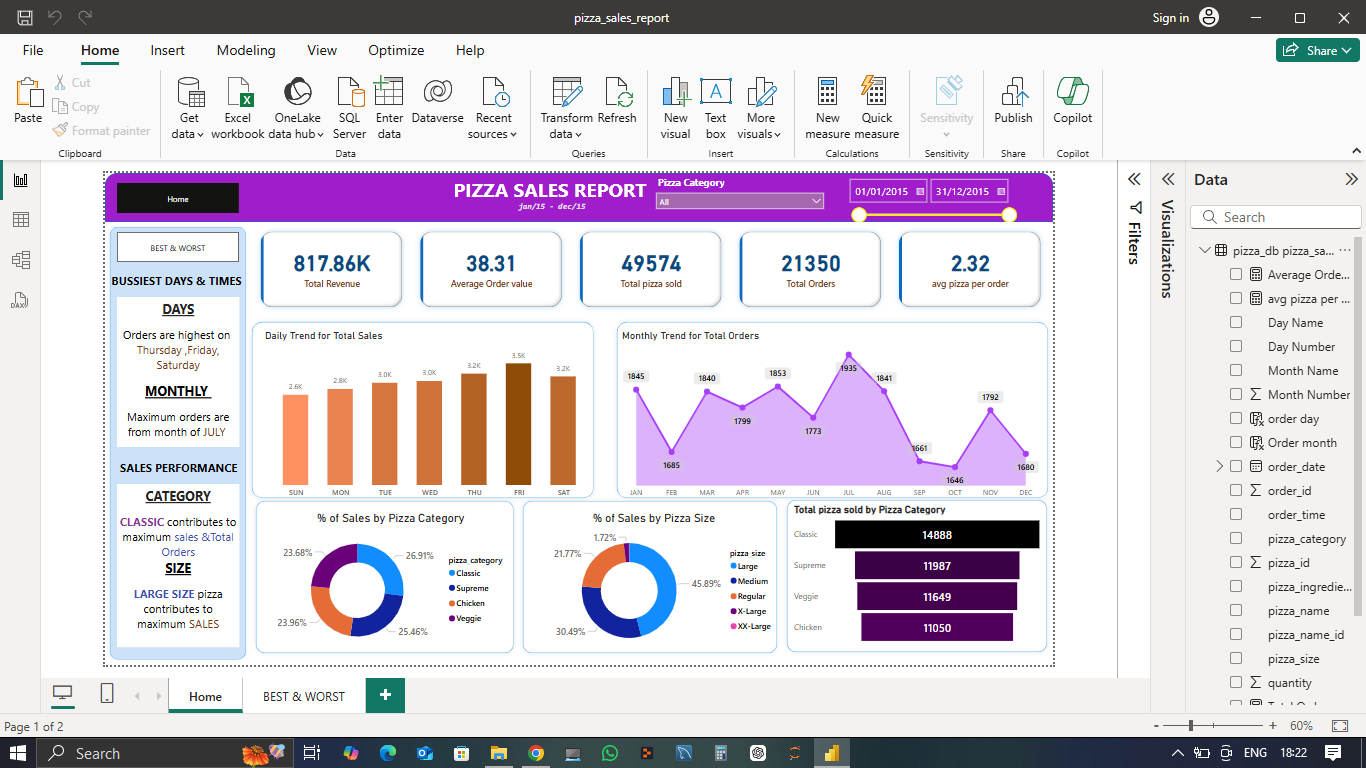

The dashboard page shown, as its layout file describes it:
{"tool":"powerbi","page":{"name":"Home ","canvas":[1580,820],"ordinal":0},"visuals":[{"type":"cardVisual","fields":{"Data":["pizza_db pizza_sales.Total Revenue","pizza_db pizza_sales.Average Order value","pizza_db pizza_sales.Total pizza sold","pizza_db pizza_sales.Total Orders","pizza_db pizza_sales.avg pizza per order"]},"box":[244,82,1336,158],"z":0},{"type":"shape","box":[0,0,1580,81.7],"z":1000},{"type":"textbox","box":[486.7,0,510,81.7],"z":2000},{"type":"textbox","box":[590,41.7,303.3,40],"z":3000},{"type":"shape","box":[236,240,586,310],"z":4000},{"type":"columnChart","title":"Daily Trend for Total Sales","fields":{"Category":["pizza_db pizza_sales.order day"],"Y":["pizza_db pizza_sales.Total Orders"]},"box":[261.7,260,560,290],"z":5000},{"type":"shape","box":[845,240,735,310],"z":6000},{"type":"areaChart","title":"Monthly Trend for Total Orders","fields":{"Category":["pizza_db pizza_sales.Order month"],"Y":["pizza_db pizza_sales.Total Orders"]},"box":[856.7,260,706.7,290],"z":7000},{"type":"shape","box":[244,538,446,270],"z":8000},{"type":"shape","box":[688,538,440,270],"z":9000},{"type":"shape","box":[1129,536.7,450,270],"z":10000},{"type":"donutChart","title":"% of Sales by Pizza Category","fields":{"Category":["pizza_db pizza_sales.pizza_category"],"Y":["pizza_db pizza_sales.Total Revenue"]},"box":[264,564,426,242],"z":11000},{"type":"donutChart","title":"% of Sales by Pizza Size ","fields":{"Y":["pizza_db pizza_sales.Total Revenue"],"Category":["pizza_db pizza_sales.pizza_size"]},"box":[702.3,563.3,426.7,243.3],"z":12000},{"type":"funnel","title":"Total pizza sold by Pizza Category","fields":{"Category":["pizza_db pizza_sales.pizza_category"],"Y":["pizza_db pizza_sales.Total pizza sold"]},"box":[1144,550,424,240],"z":13000},{"type":"shape","box":[0,81.7,243.3,738.3],"z":14000},{"type":"textbox","box":[0,162,244,58],"z":15000},{"type":"textbox","box":[20,206,204,250],"z":16000},{"type":"textbox","box":[20,474,224,44],"z":17000},{"type":"textbox","box":[20,518,204,272],"z":18000},{"type":"slicer","fields":{"Values":["pizza_db pizza_sales.pizza_category"]},"box":[908,0,300,82],"z":19000},{"type":"slicer","fields":{"Values":["pizza_db pizza_sales.order_date"]},"box":[1228,0,300,82],"z":20000},{"type":"pageNavigator","box":[20,16.7,203.3,50],"z":21000},{"type":"pageNavigator","box":[20,98.3,203.3,50],"z":22000}]}

Visuals, with their boxes on the page's 1580x820 design canvas (x1, y1, x2, y2). These are canvas units, not pixel positions in the 1366x768 screenshot, which may show the page scaled, cropped or inside an application window:
cardVisual - pizza_db pizza_sales.Total Revenue x pizza_db pizza_sales.Average Order value: [244,82,1580,240]
shape: [0,0,1580,82]
textbox: [487,0,997,82]
textbox: [590,42,893,82]
shape: [236,240,822,550]
"Daily Trend for Total Sales" columnChart: [262,260,822,550]
shape: [845,240,1580,550]
"Monthly Trend for Total Orders" areaChart: [857,260,1563,550]
shape: [244,538,690,808]
shape: [688,538,1128,808]
shape: [1129,537,1579,807]
"% of Sales by Pizza Category" donutChart: [264,564,690,806]
"% of Sales by Pizza Size " donutChart: [702,563,1129,807]
"Total pizza sold by Pizza Category" funnel: [1144,550,1568,790]
shape: [0,82,243,820]
textbox: [0,162,244,220]
textbox: [20,206,224,456]
textbox: [20,474,244,518]
textbox: [20,518,224,790]
slicer - pizza_db pizza_sales.pizza_category: [908,0,1208,82]
slicer - pizza_db pizza_sales.order_date: [1228,0,1528,82]
pageNavigator: [20,17,223,67]
pageNavigator: [20,98,223,148]
